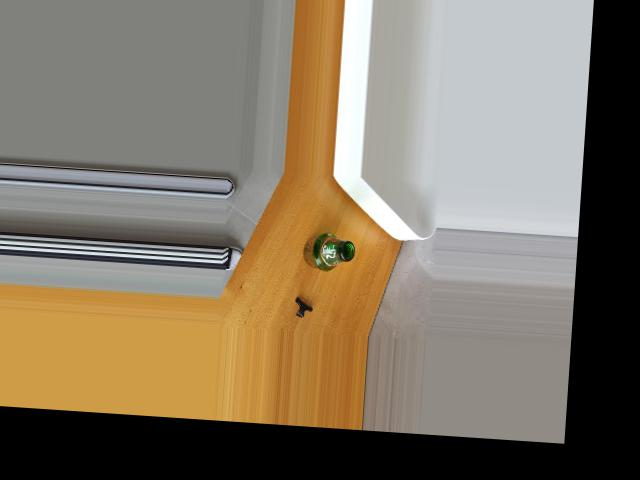beer: (301, 230, 355, 272)
